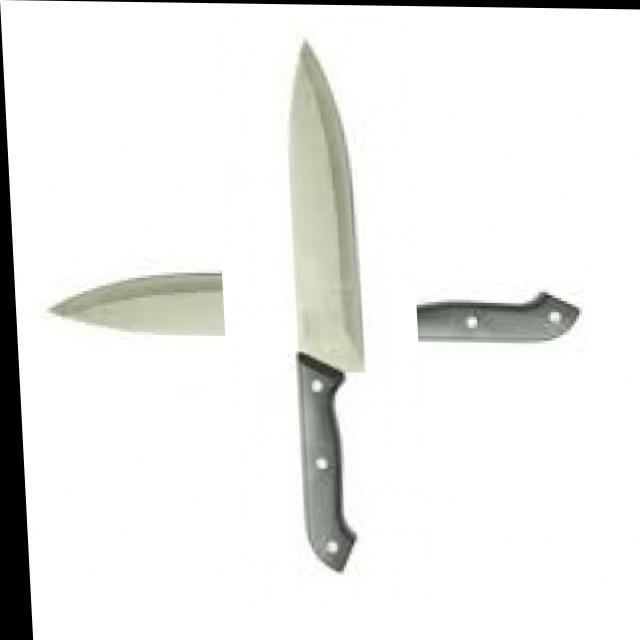knife: (285, 35, 368, 572), (50, 271, 580, 345)
